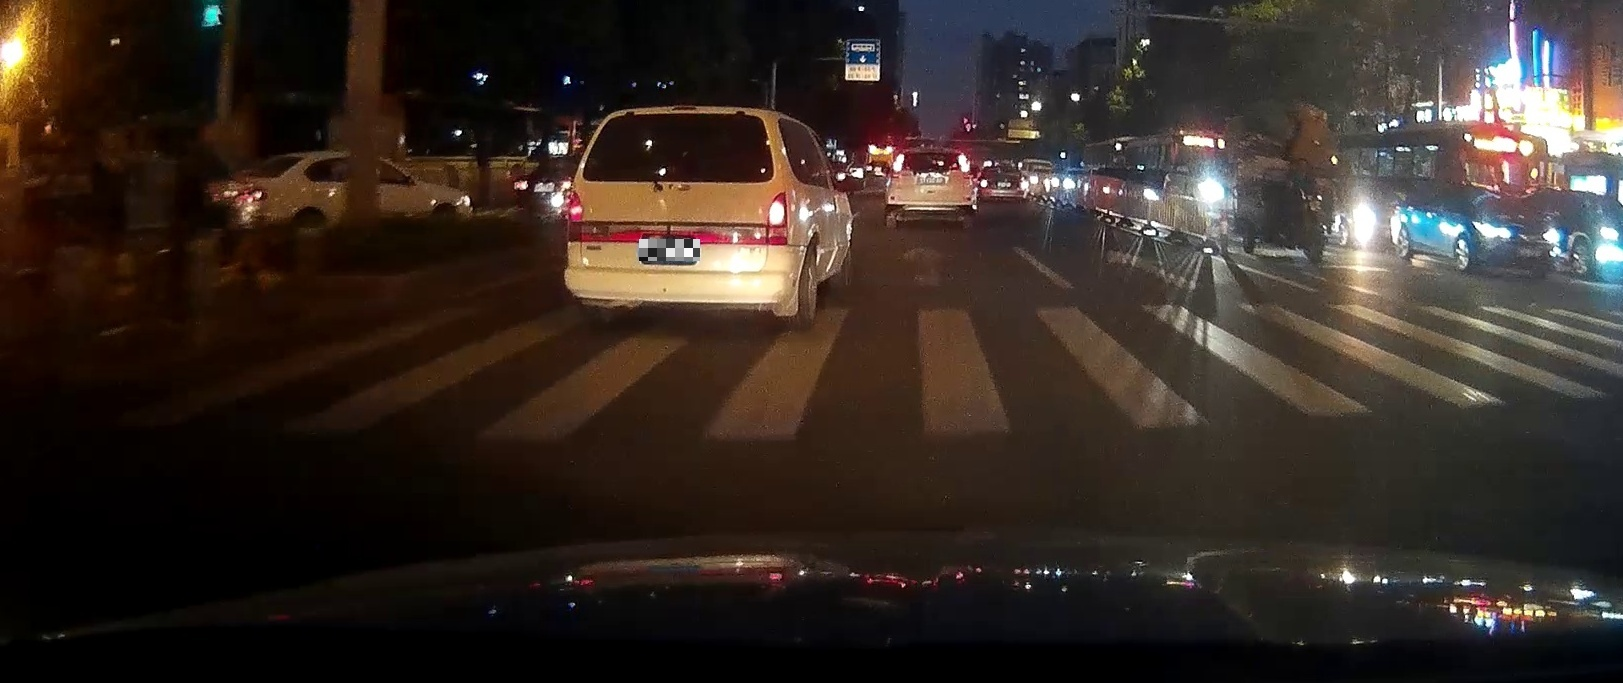L_light: (567, 192, 583, 222), (892, 153, 904, 173)
R_light: (767, 194, 786, 228), (957, 155, 969, 172)
T_light: (661, 114, 694, 120), (925, 154, 938, 157)
night-no: (884, 149, 976, 230)
night-right: (563, 105, 788, 327)
plate_1: (639, 239, 700, 261)
